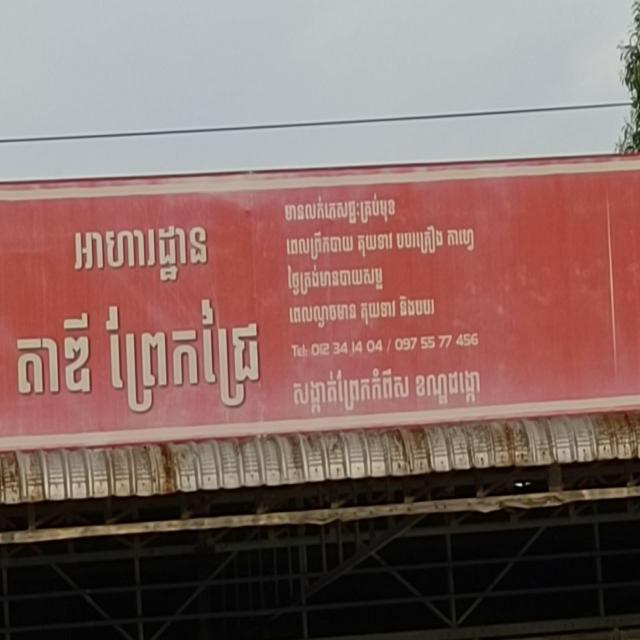Yolov11kh: (12, 294, 268, 424), (288, 360, 487, 419), (66, 214, 211, 289), (282, 221, 476, 262), (287, 290, 438, 332), (282, 187, 400, 231), (286, 259, 385, 301)
